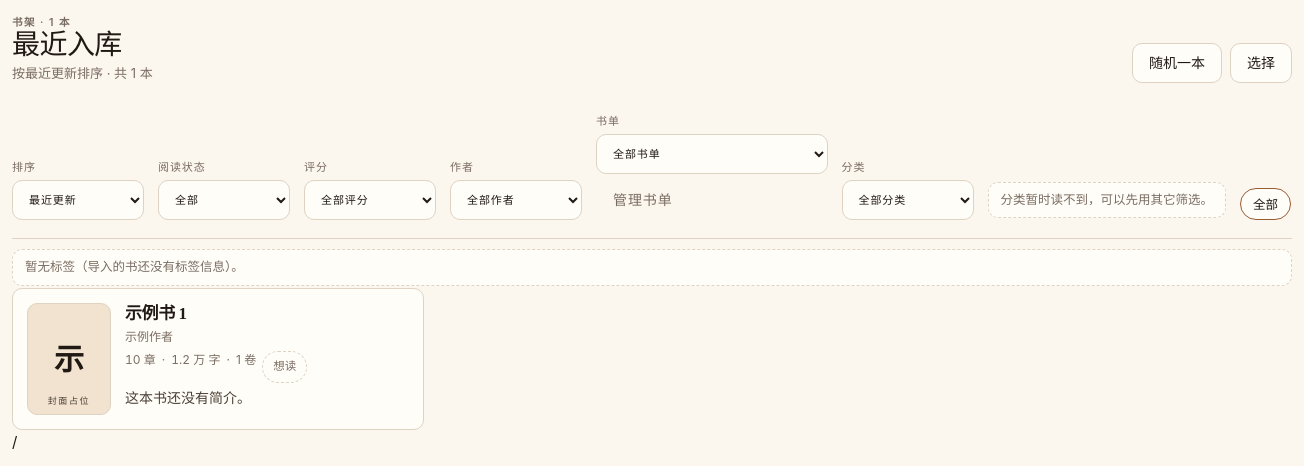
it: 书架：阅读状态筛选与书卡角标 › 书卡角标点一下循环：想读 → 在读 → 已读 → 未标记，PATCH 只带 readStatus
The width and height of the screenshot is (1304, 466).
Click the button with test id "book-status-1" at x=285, y=367, box top-left (262, 351), bottom-right (307, 383)
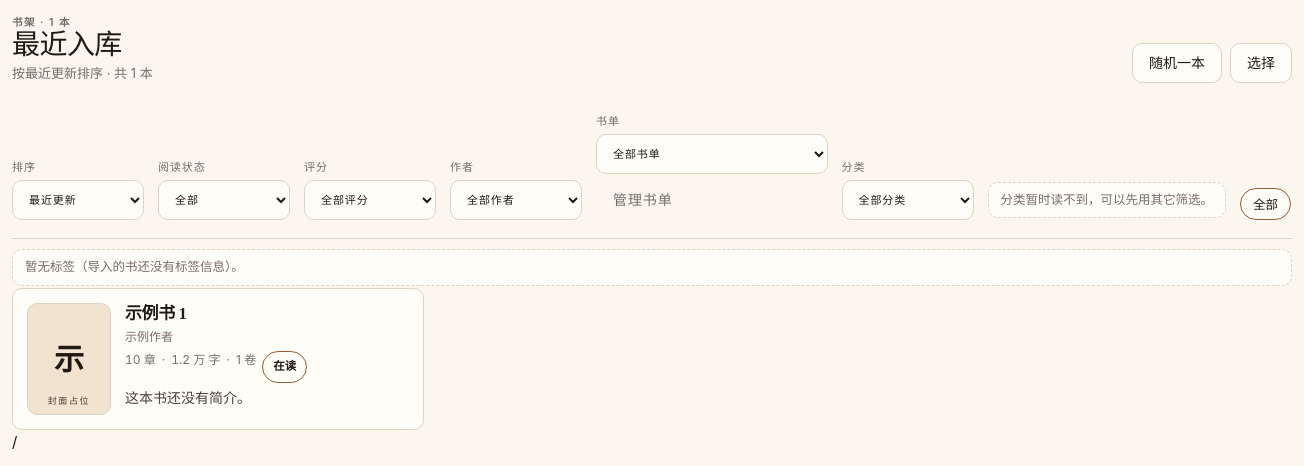
Check: the button with test id "book-status-1" reads "在读"
Click the button with test id "book-status-1" at x=285, y=367, box top-left (262, 351), bottom-right (307, 383)
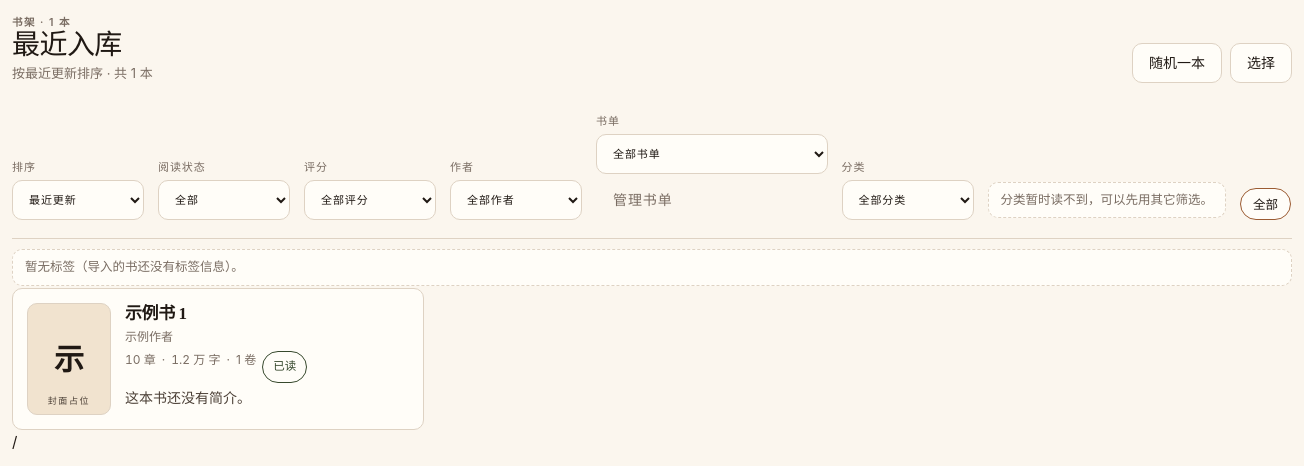
Check: the button with test id "book-status-1" reads "已读"
Click the button with test id "book-status-1" at x=285, y=367, box top-left (262, 351), bottom-right (307, 383)
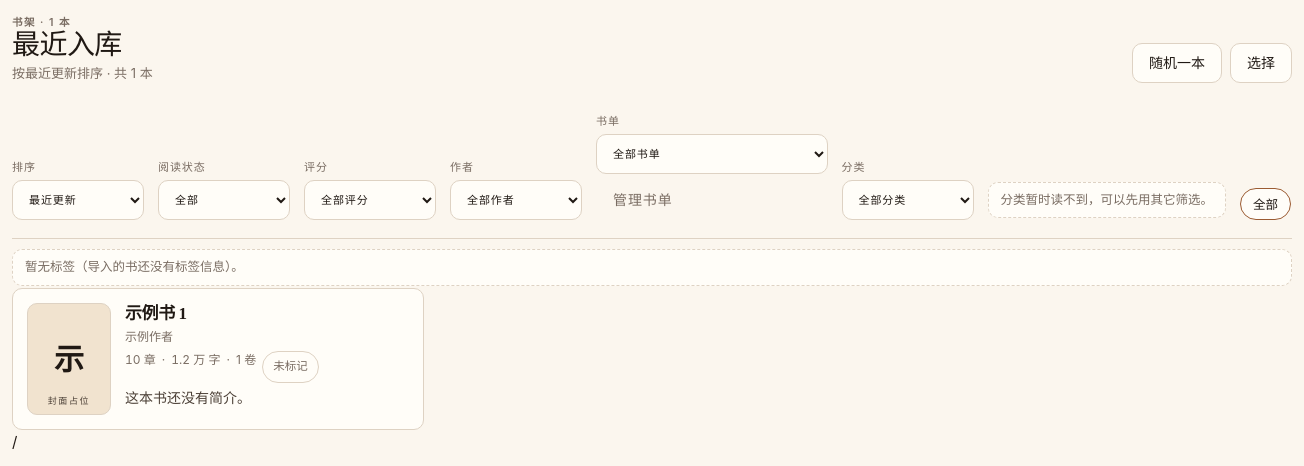
Check: the button with test id "book-status-1" reads "未标记", box top-left (262, 351), bottom-right (319, 383)
